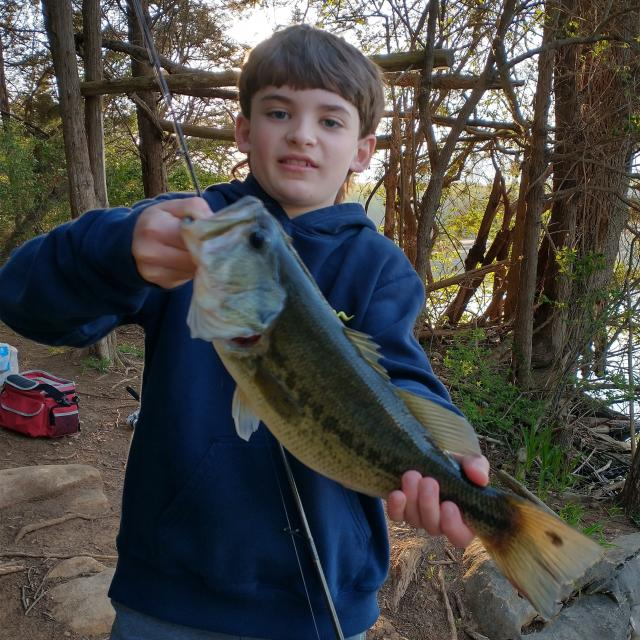Bass - Largemouth: (182, 196, 601, 619)
